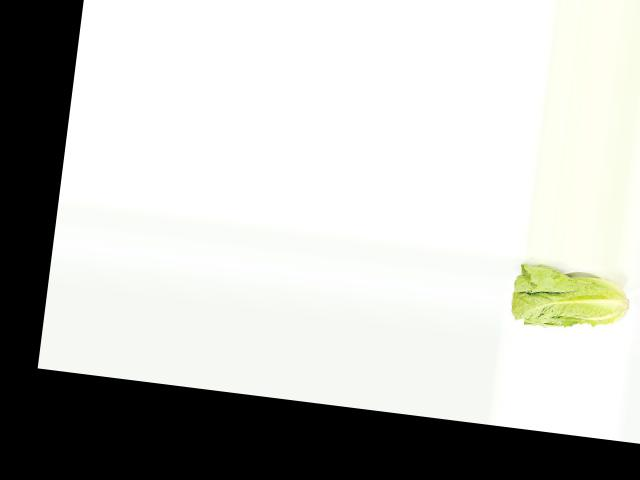lettuce: (508, 260, 634, 339)
